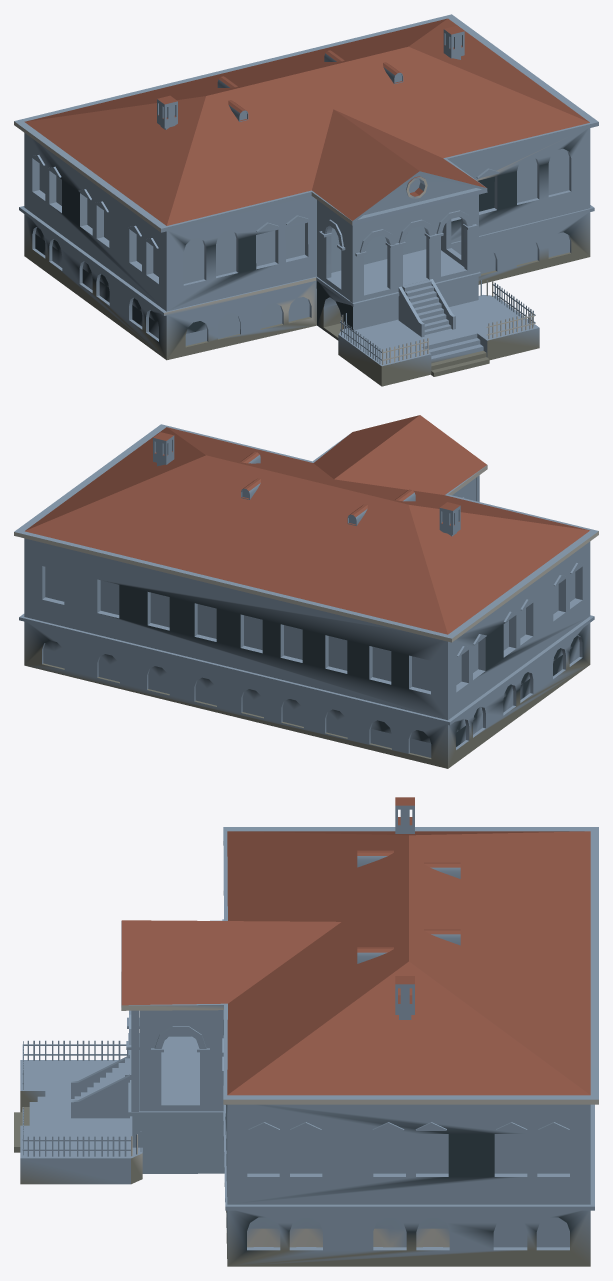
3 renders of one model, top to bottom at view 1: azimuth 30°, elevation 25°; view 2: azimuth 150°, elevation 25°; view 3: azimuth 270°, elevation 25°, orthographic. The views are drawn at different scales.
Parts seen in each view (by area): view 1: polySurface102:PIV; view 2: polySurface102:PIV; view 3: polySurface102:PIV.
Boxes of the visible parts, x1,y1,x2,y2 form: polySurface102:PIV: (14,14,598,386); polySurface102:PIV: (14,415,598,768); polySurface102:PIV: (14,797,598,1266).
Bounding box in the file's own units: 22.86 × 9.6 × 20.72.
